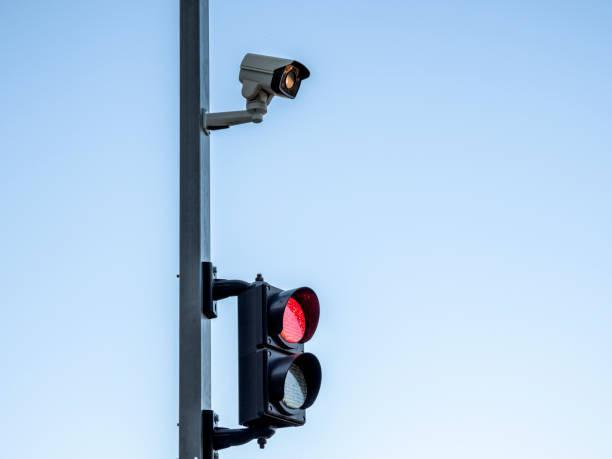camera: (221, 45, 320, 138)
